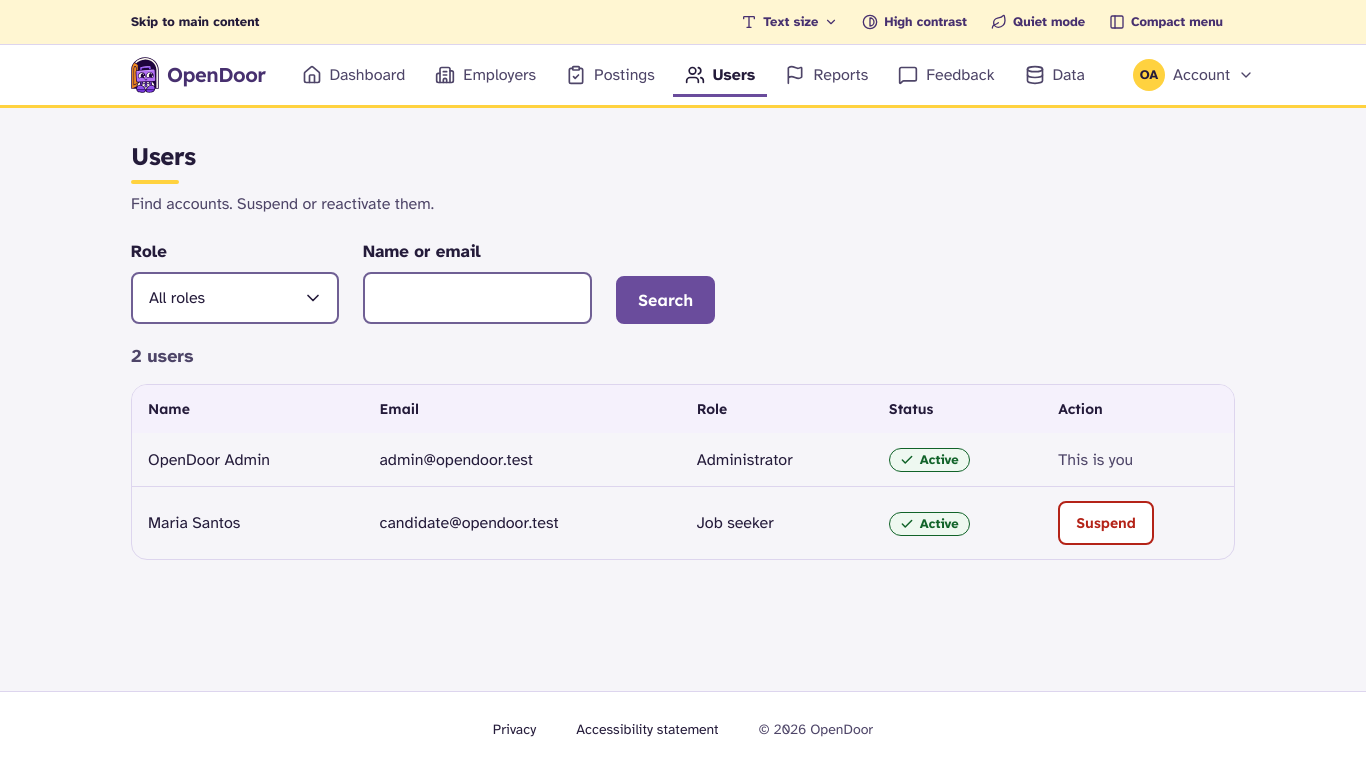
Test case: AdminUsersPage › suspends another user but never offers it for the own account
The image size is (1366, 768).
Expected: the text "This is you" is shown, [1058,450,1133,470]
Click the button with aria-label "Suspend Maria Santos" at (1106, 523), box [1058,501,1154,545]
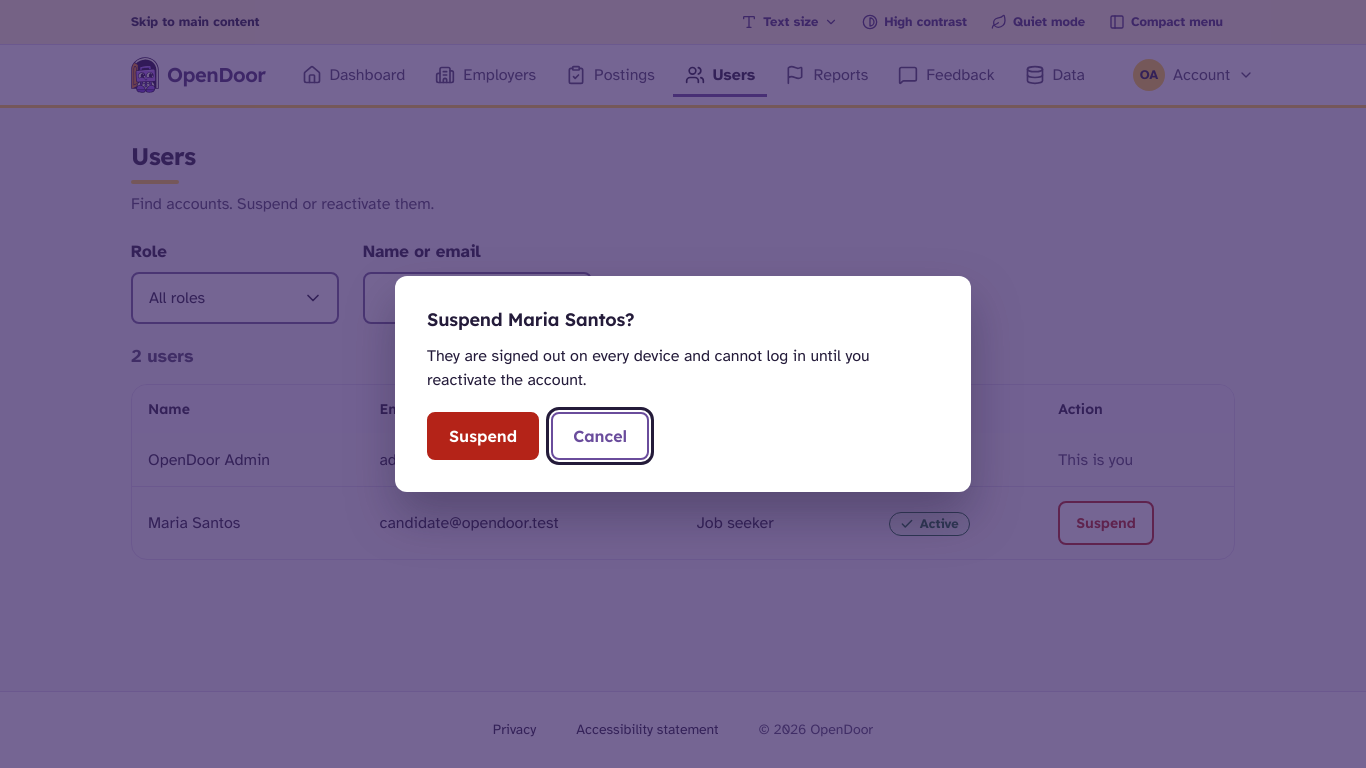
Now the dialog shows "signed out on every device", box [427,346,870,390]
Click the button "Suspend" at (483, 436), box [427,412,539,460]
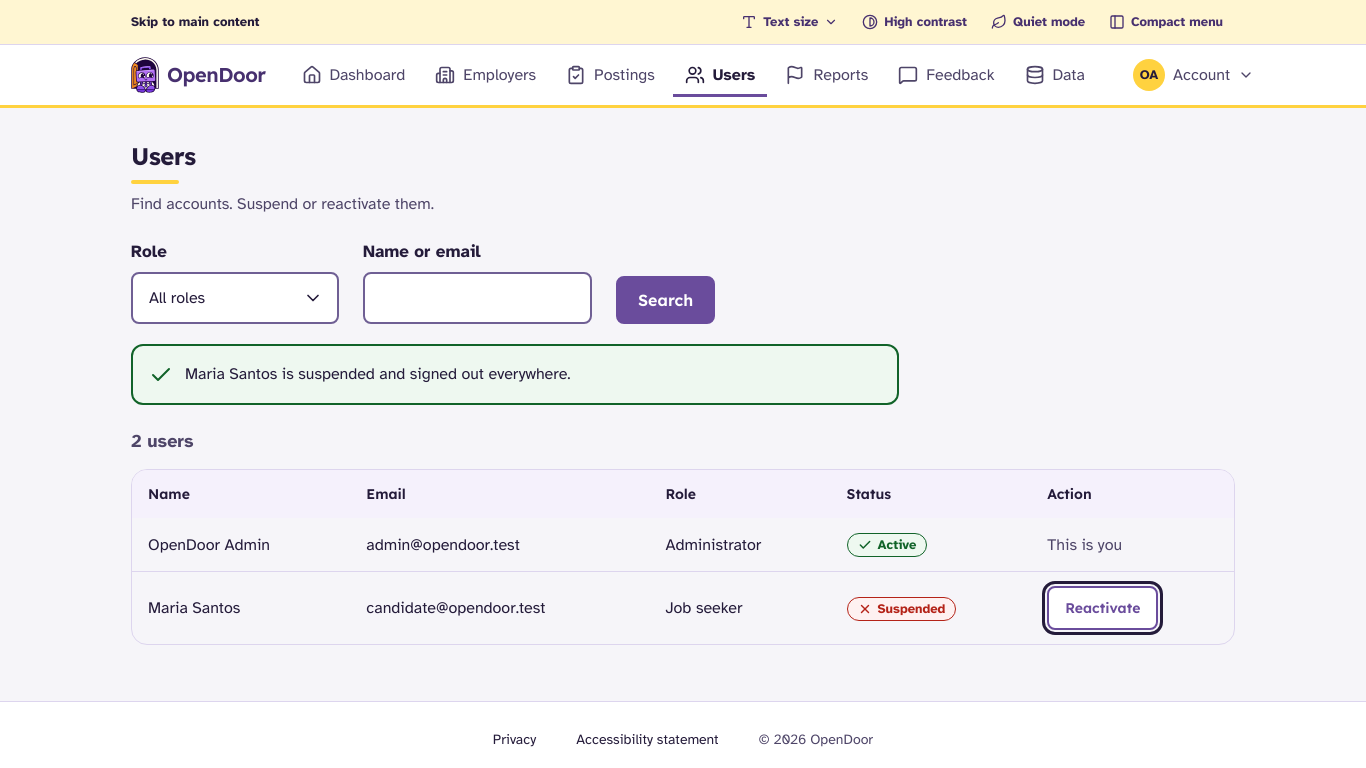
Now the button with aria-label "Reactivate Maria Santos" is shown, box [1047,586,1158,630]
